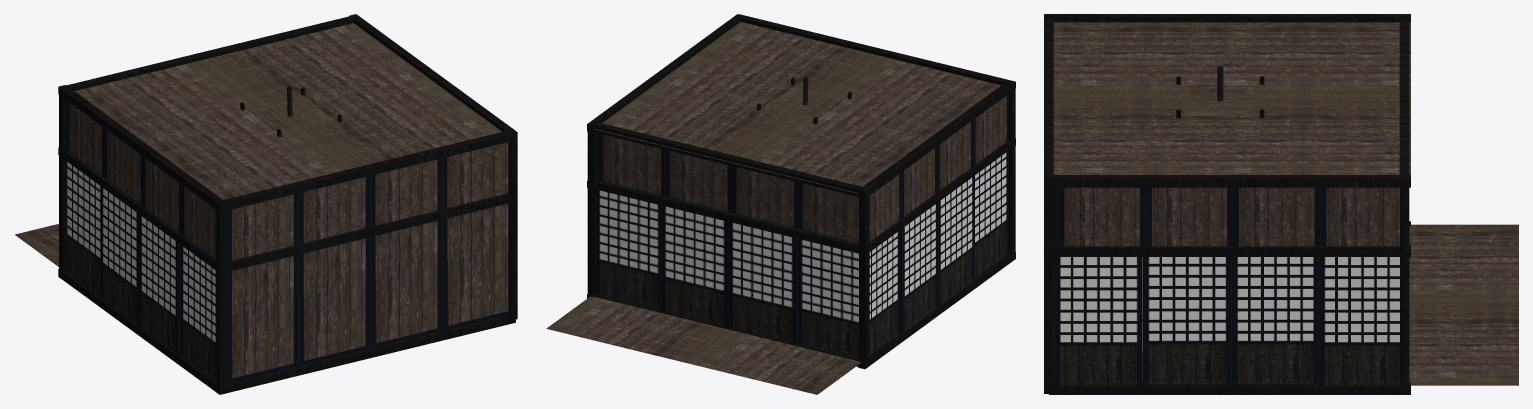
Rendered from heya1.fbx.
The picture shows the model from 3 angles, left to right: view 1: azimuth 30°, elevation 25°; view 2: azimuth 150°, elevation 25°; view 3: azimuth 270°, elevation 25°; orthographic projection. The views are drawn at different scales.
Visible parts, largest first — view 1: iroriheyasuteeji; view 2: iroriheyasuteeji; view 3: iroriheyasuteeji.
Part boxes in pixels (x1,y1,x2,y2): iroriheyasuteeji: (15,14,517,394); iroriheyasuteeji: (546,14,1015,394); iroriheyasuteeji: (1044,14,1518,394).
Bounding box in the file's own units: 492 × 344 × 598.
Materials: 16 (16 with a texture image).
